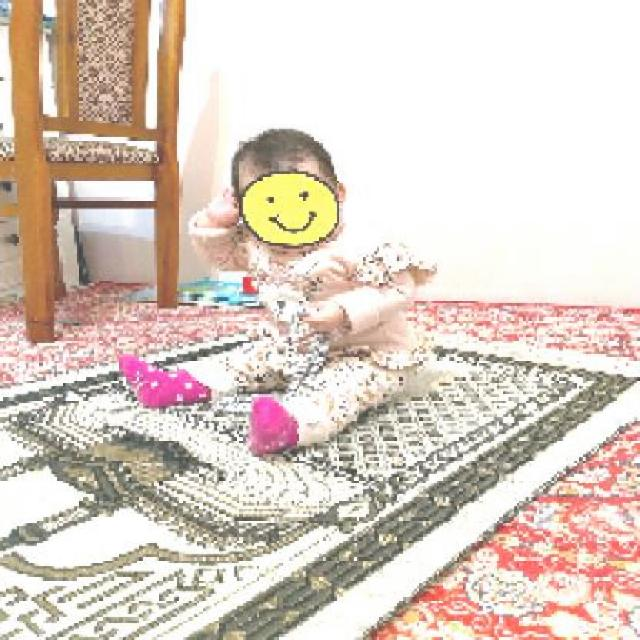child: (119, 124, 438, 456)
